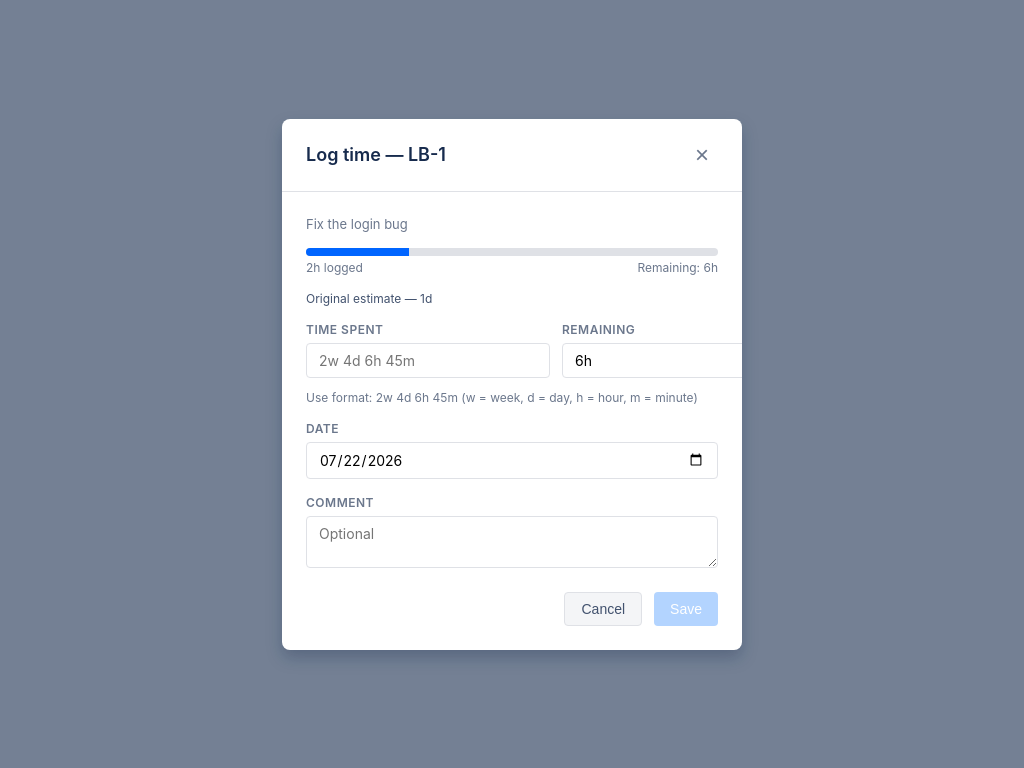
Scenario: LogTimeModal › shows server error and keeps values
Type "2h" into the field labelled "Time spent" at (428, 360), box [306,342,550,378]
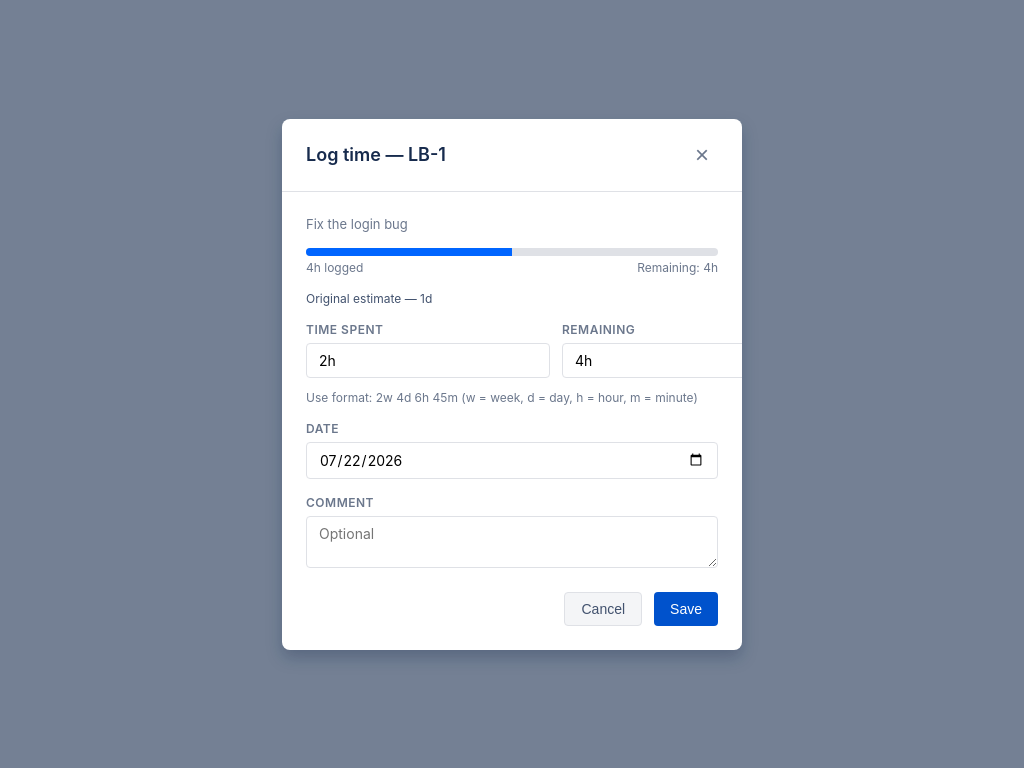
Click the button "Save" at (686, 608), box [654,592,718,626]
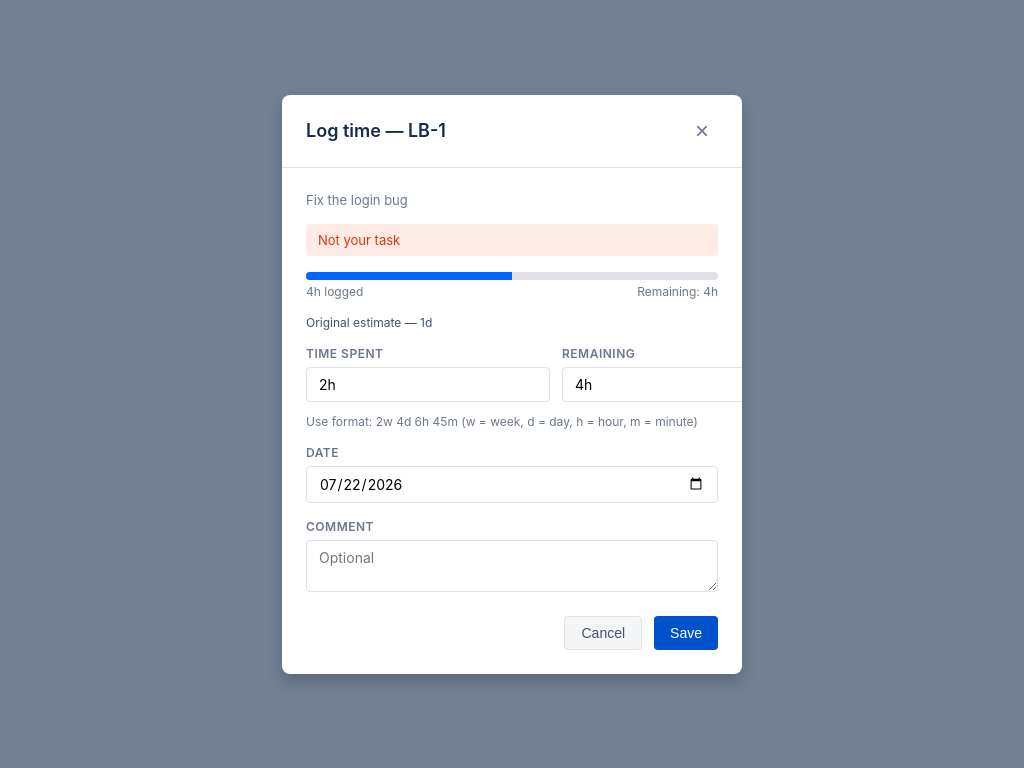
Expected: the text "Not your task" is shown, [306,224,718,256]
